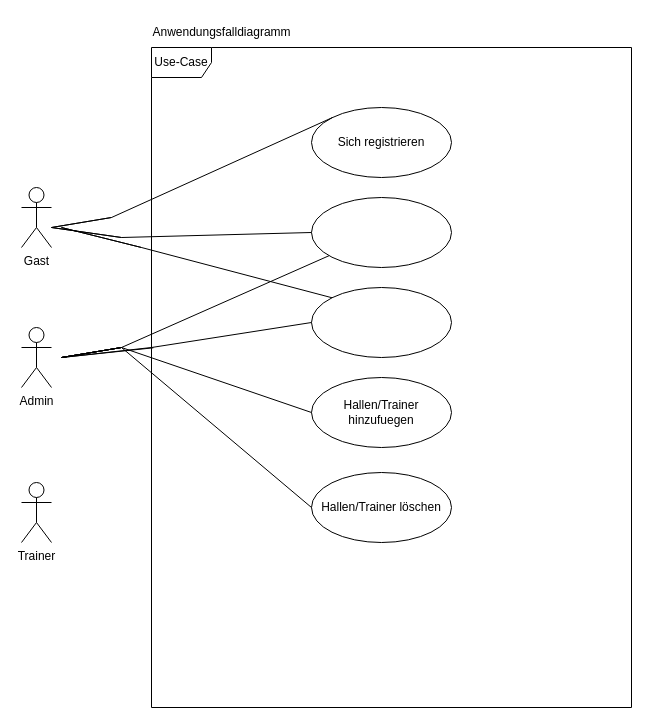
Image size: 649x725. Some labels were removed from this diagram. Each missing label, with the centre of its shape:
Hallen/Trainer einsehen: the point at 381,322
Sich einloggen: the point at 381,232
